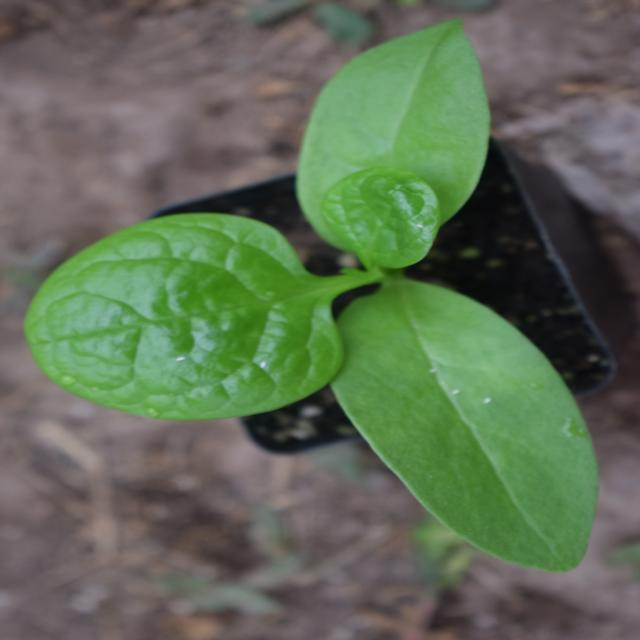Ceylon spinach: (48, 39, 599, 588)
